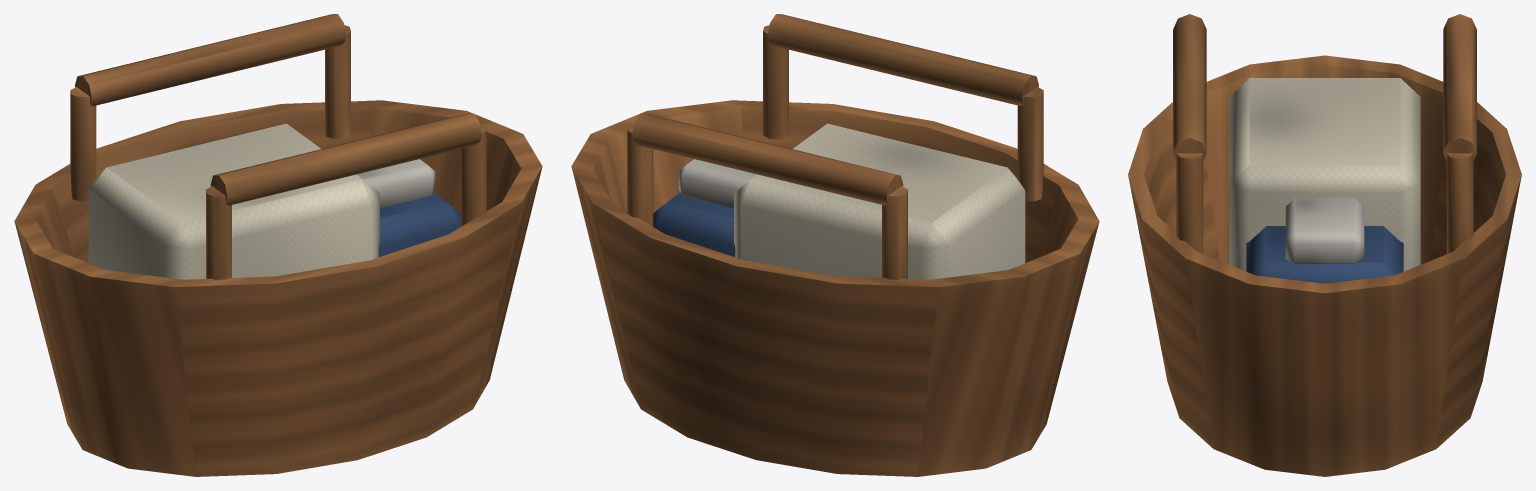
Rendered from Furn_Life_BathBasket.fbx.
The picture shows the model from 3 angles, left to right: view 1: azimuth 30°, elevation 25°; view 2: azimuth 150°, elevation 25°; view 3: azimuth 270°, elevation 25°; orthographic projection.
Visible parts, largest first — view 1: Furn_Life_BathBasket; view 2: Furn_Life_BathBasket; view 3: Furn_Life_BathBasket.
Boxes of the visible parts, <box> form: Furn_Life_BathBasket: <box>14,14,542,476</box>; Furn_Life_BathBasket: <box>571,14,1099,476</box>; Furn_Life_BathBasket: <box>1128,14,1521,476</box>.
Bounding box in the file's own units: 0.5 × 0.3 × 0.35.
4 materials, 4 textured.
